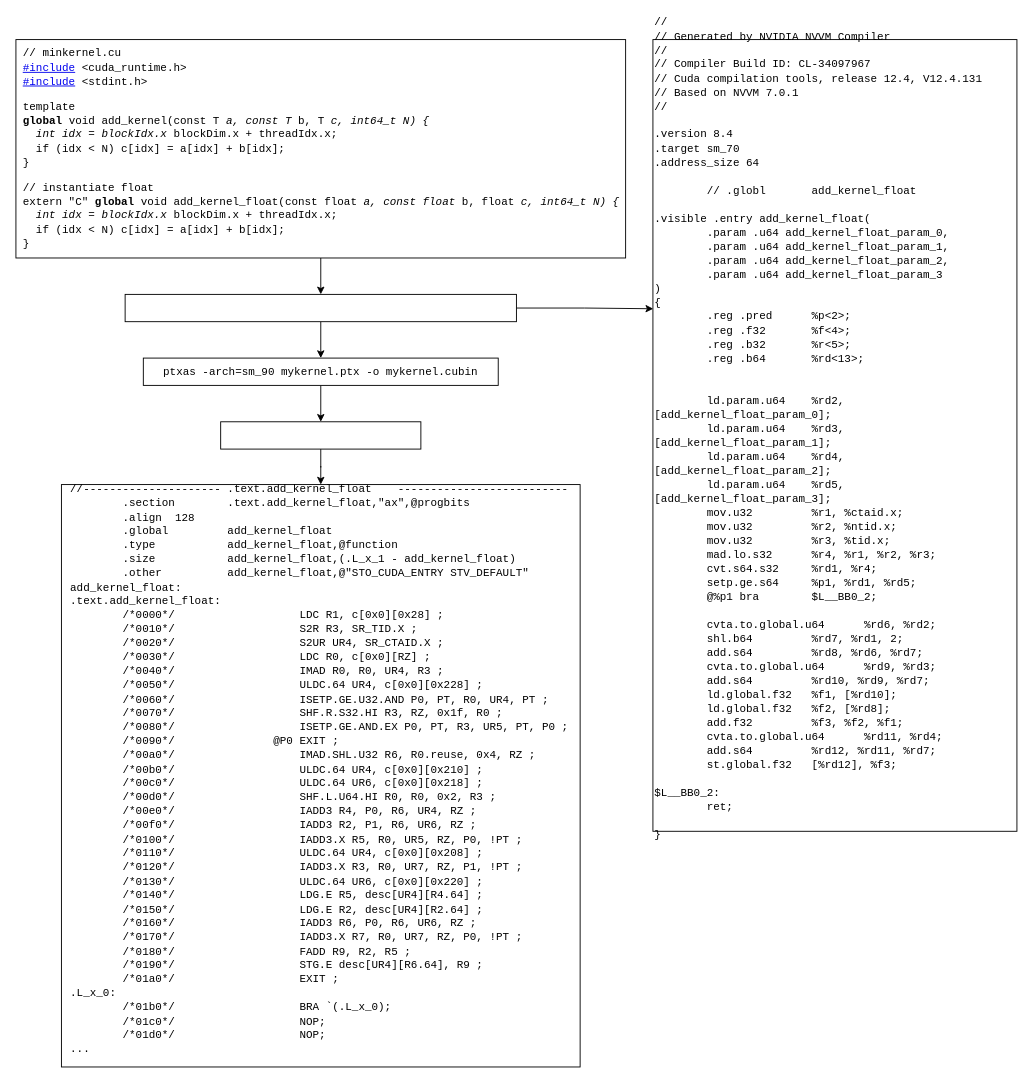
Some shapes in this 1033 by 1085 pixel diagram are drawn without their labels. The box of each missing label's shape, as (x1, y1, x2, y2) in pixels:
nvcc -arch=sm_70 -ptx minkernel.cu -o minkernel.ptx: (124, 293, 516, 322)
nvdisasm mykernel.cubin: (220, 421, 421, 449)
